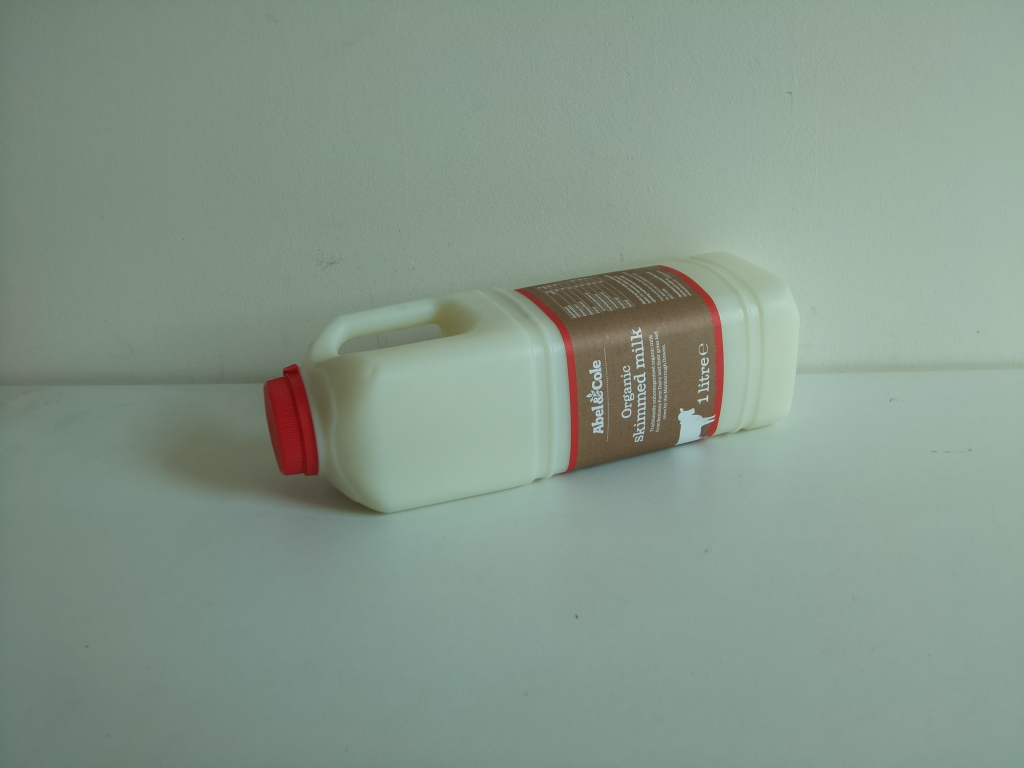milk: (259, 247, 808, 521)
